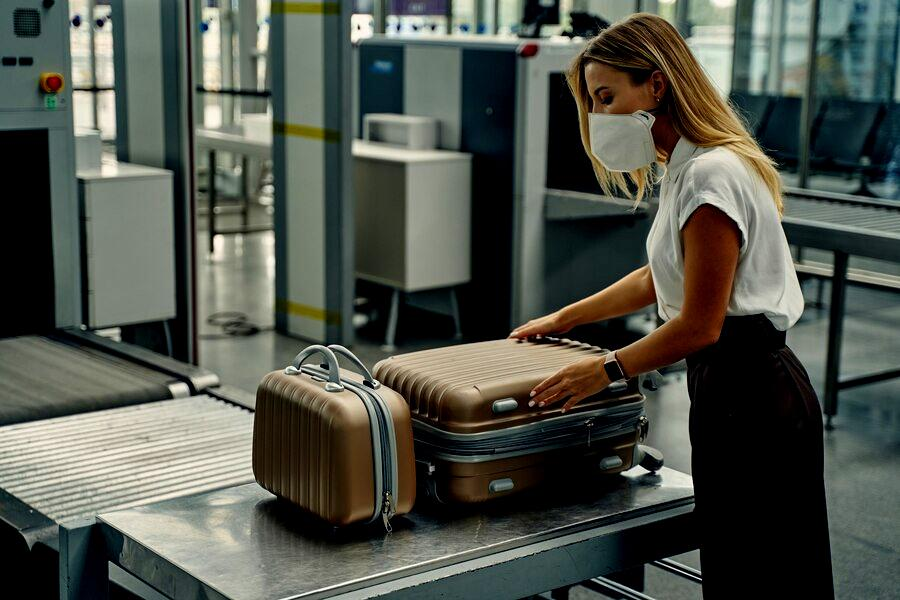baggage: (380, 329, 670, 516), (241, 341, 422, 537)
